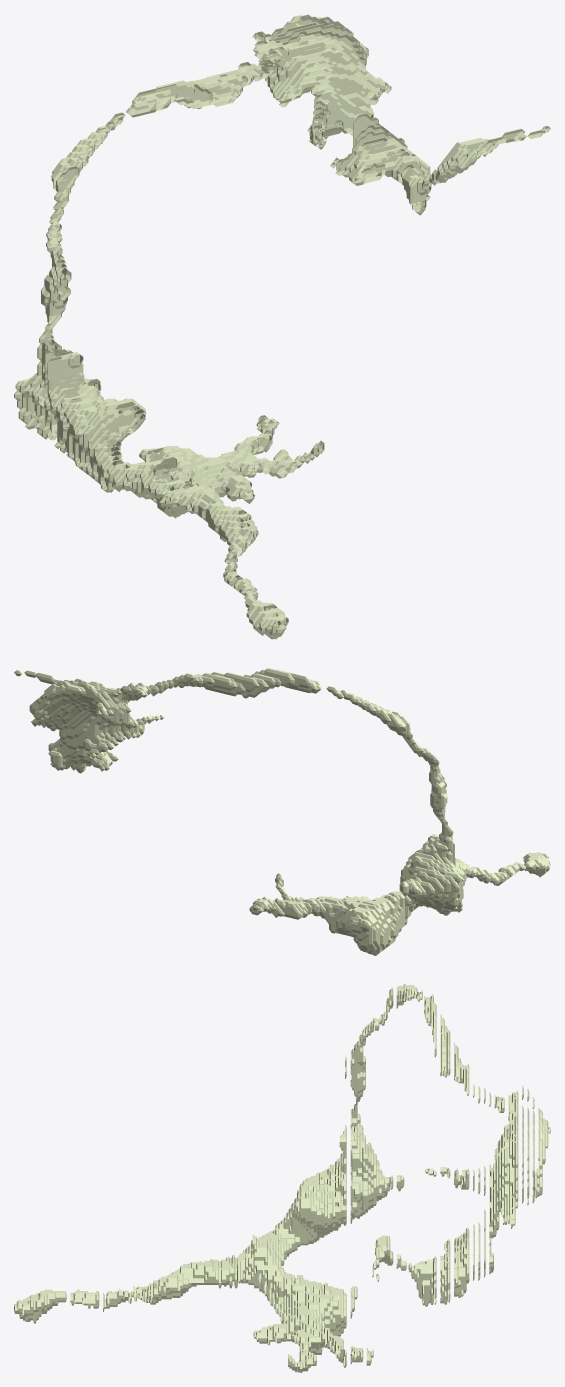
File: SVV_RMDVR.gltf
3 renders of one model, top to bottom at view 1: azimuth 30°, elevation 25°; view 2: azimuth 150°, elevation 25°; view 3: azimuth 270°, elevation 25°, orthographic. The views are drawn at different scales.
Parts seen in each view (by area): view 1: RMDVR; view 2: RMDVR; view 3: RMDVR.
Boxes of the visible parts, x1,y1,x2,y2 form: RMDVR: (14,14,550,639); RMDVR: (14,668,550,955); RMDVR: (14,984,550,1372).
Size of the model in its own units: 85035 by 56330 by 75813.
